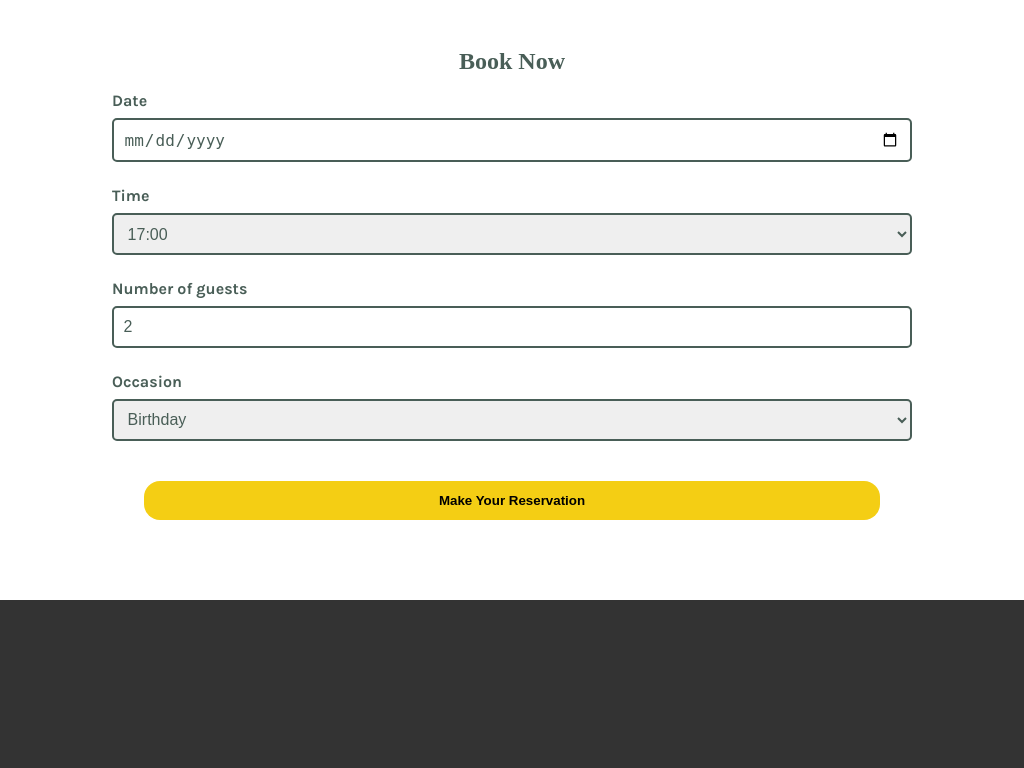
it: Booking Form › Invalid (past) date shows error
In the date field named "Select a date": point(512, 140) [112,118,912,162], type "2020-01-01"
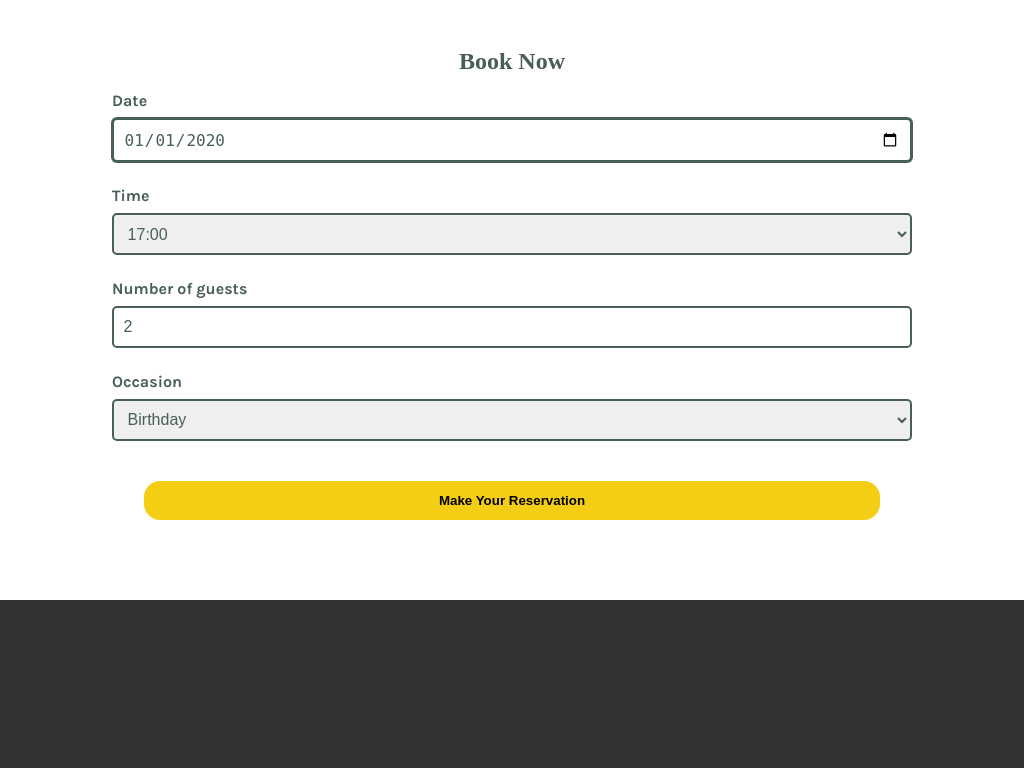
Press Tab
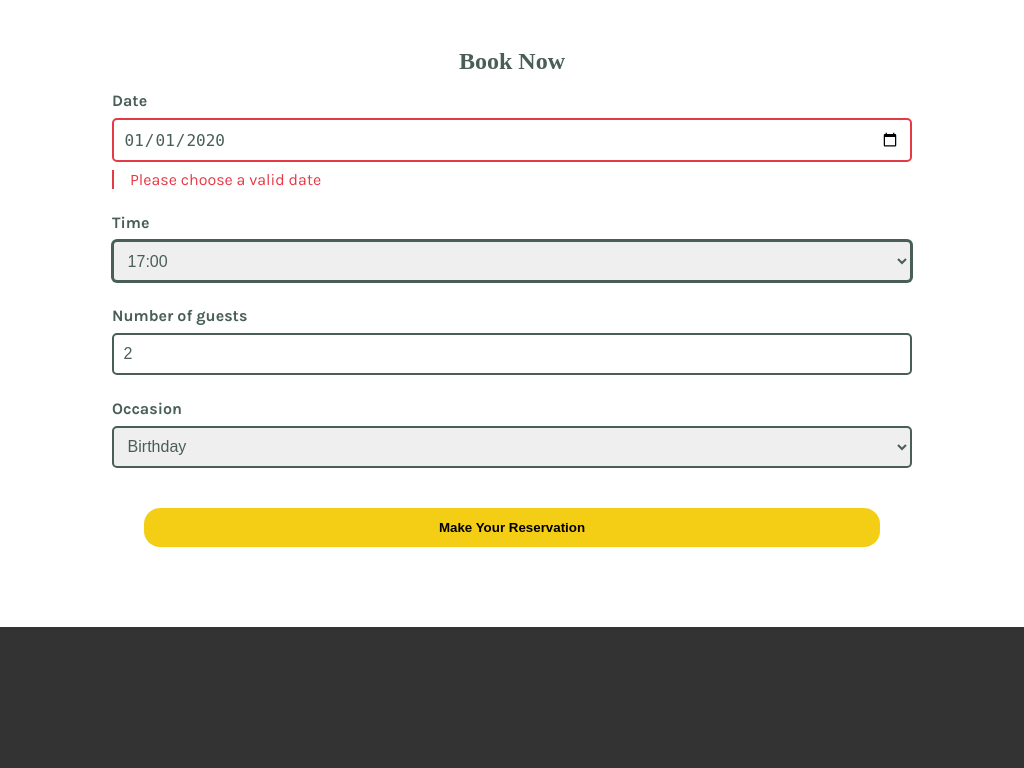
expect the text "Please choose a valid date" is shown: met, box [112,170,912,189]
